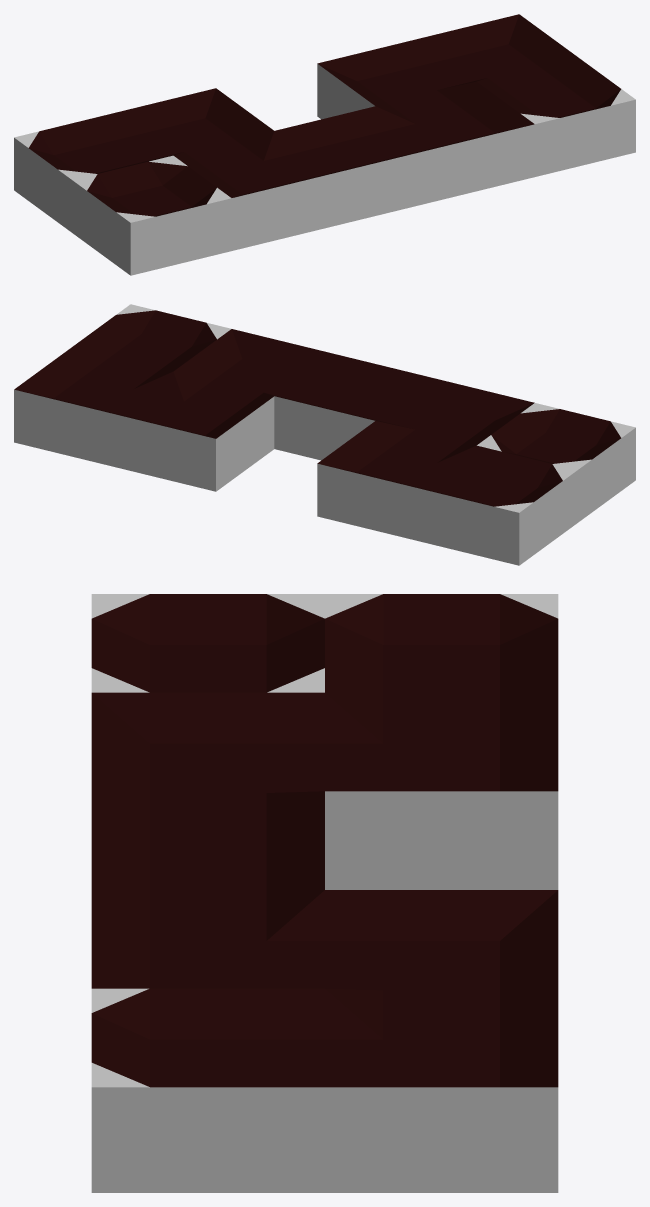
The model's file is 72f_path.obj.
3 views of the same model, one above another, from view 1: azimuth 30°, elevation 25°; view 2: azimuth 150°, elevation 25°; view 3: azimuth 270°, elevation 25° (orthographic). The views are drawn at different scales.
Parts seen in each view (by area): view 1: foil.hole.0.1_Cube.295, foil.through.2.1_through.303, foil.corner.3.1_corner.1459, foil.ending.4.1_ending.588, foil.corner.1.1_corner.1457, foil.ending.0.2_ending.587, foil.corner.3.2_corner.1460, foil.corner.1.2_corner.1458, foil.corner.4.2_corner.1461; view 2: foil.ending.0.2_ending.587, foil.corner.3.2_corner.1460, foil.corner.1.2_corner.1458, foil.corner.4.2_corner.1461, foil.through.2.1_through.303, foil.hole.0.1_Cube.295, foil.corner.3.1_corner.1459, foil.ending.4.1_ending.588, foil.corner.1.1_corner.1457; view 3: foil.ending.4.1_ending.588, foil.corner.4.2_corner.1461, foil.corner.1.2_corner.1458, foil.corner.1.1_corner.1457, foil.ending.0.2_ending.587, foil.corner.3.2_corner.1460, foil.through.2.1_through.303, foil.hole.0.1_Cube.295, foil.corner.3.1_corner.1459.
Boxes of the visible parts, x1,y1,x2,y2 form: foil.hole.0.1_Cube.295: [72, 155, 231, 275]; foil.through.2.1_through.303: [275, 106, 433, 226]; foil.corner.3.1_corner.1459: [376, 81, 534, 201]; foil.ending.4.1_ending.588: [477, 57, 635, 176]; foil.corner.1.1_corner.1457: [174, 131, 332, 250]; foil.ending.0.2_ending.587: [14, 113, 170, 232]; foil.corner.3.2_corner.1460: [317, 39, 475, 119]; foil.corner.1.2_corner.1458: [115, 88, 273, 162]; foil.corner.4.2_corner.1461: [418, 14, 577, 88]; foil.ending.0.2_ending.587: [418, 445, 577, 565]; foil.corner.3.2_corner.1460: [115, 372, 274, 491]; foil.corner.1.2_corner.1458: [317, 421, 475, 540]; foil.corner.4.2_corner.1461: [14, 347, 172, 466]; foil.through.2.1_through.303: [274, 353, 433, 460]; foil.hole.0.1_Cube.295: [477, 403, 635, 522]; foil.corner.3.1_corner.1459: [173, 329, 332, 403]; foil.ending.4.1_ending.588: [72, 304, 231, 378]; foil.corner.1.1_corner.1457: [376, 378, 534, 452]; foil.ending.4.1_ending.588: [91, 988, 324, 1192]; foil.corner.4.2_corner.1461: [325, 988, 558, 1192]; foil.corner.1.2_corner.1458: [325, 693, 558, 889]; foil.corner.1.1_corner.1457: [91, 692, 324, 817]; foil.ending.0.2_ending.587: [325, 594, 558, 718]; foil.corner.3.2_corner.1460: [325, 890, 558, 1014]; foil.through.2.1_through.303: [91, 791, 324, 916]; foil.hole.0.1_Cube.295: [91, 594, 324, 692]; foil.corner.3.1_corner.1459: [91, 890, 324, 988].
Bounding box in the file's own units: 10 × 1 × 4.
